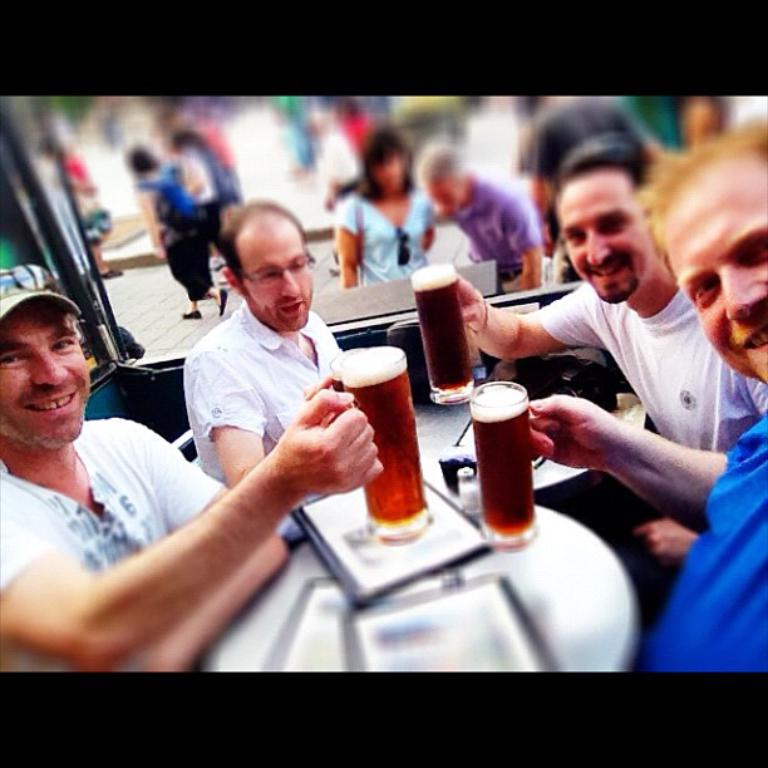Beer: (332, 342, 435, 540), (475, 382, 535, 548), (417, 263, 471, 400)
